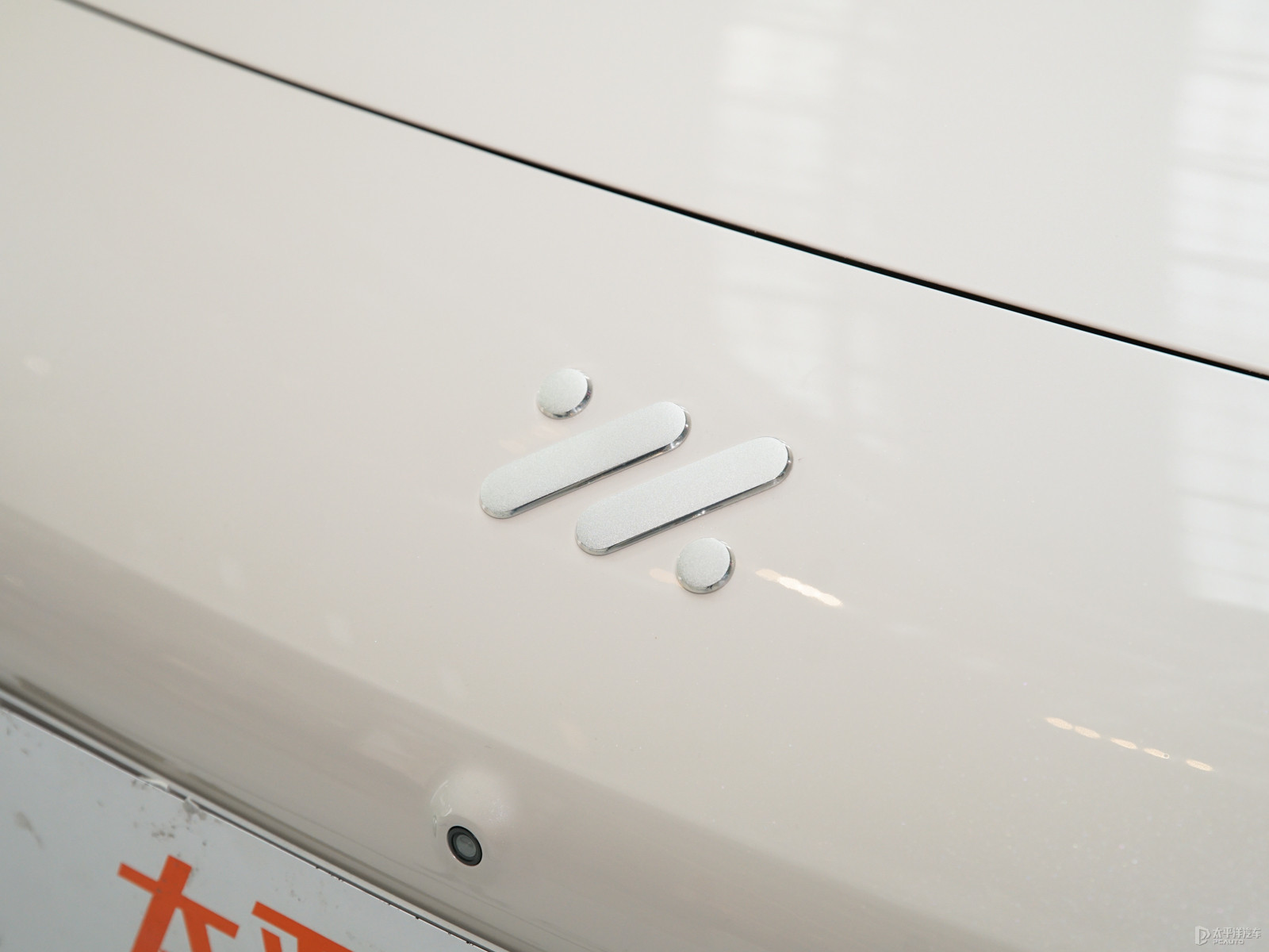IM: (481, 370, 792, 593)
